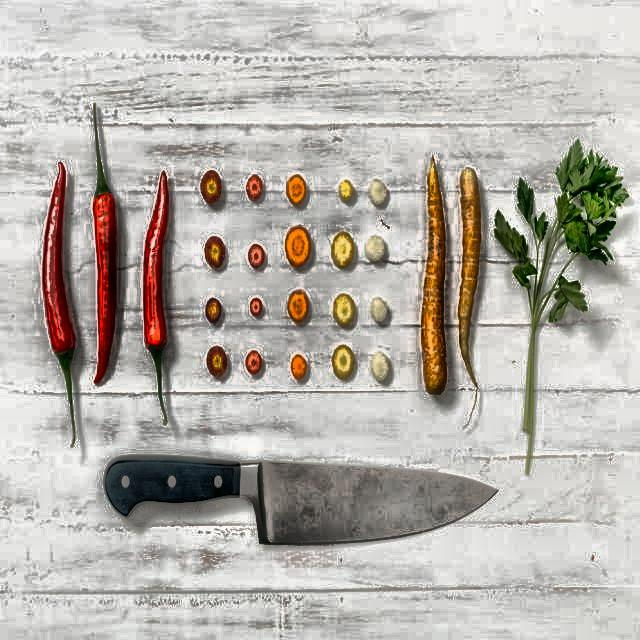knife: (102, 450, 508, 564)
